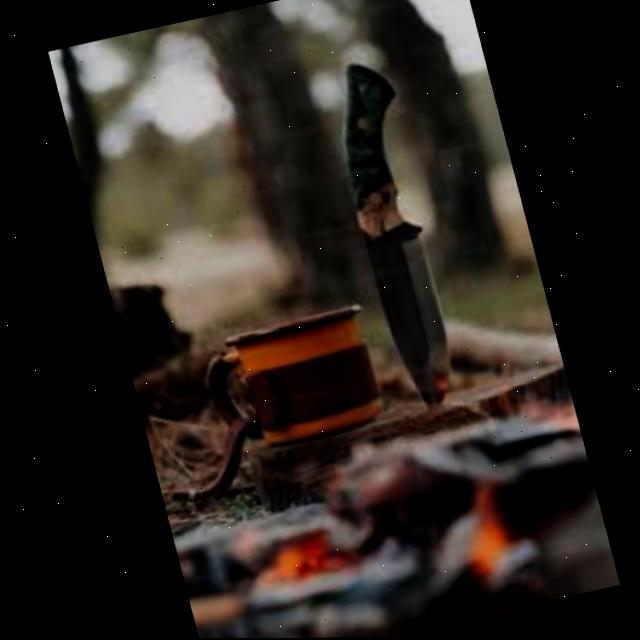knife: (317, 53, 474, 423)
